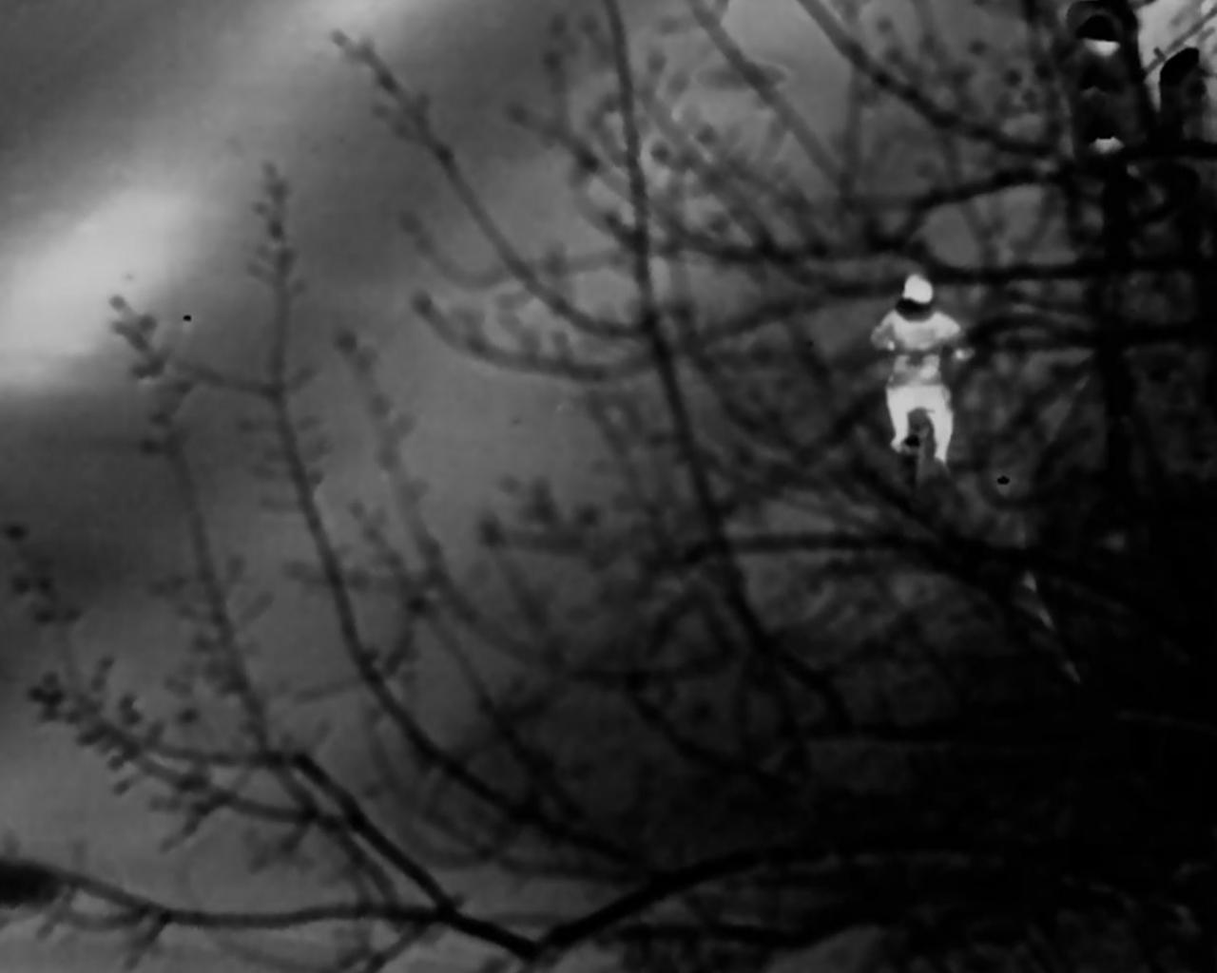person: (876, 268, 965, 474)
